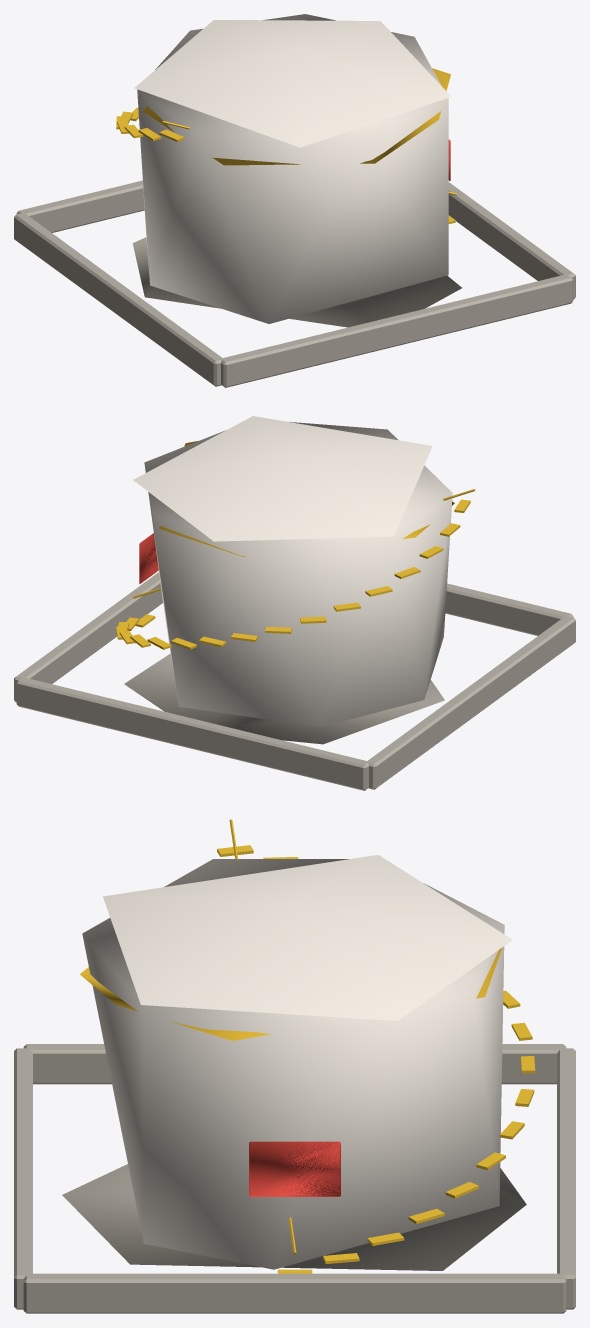
The model's file is fuel_tank.glb.
The picture shows the model from 3 angles, top to bottom: view 1: azimuth 30°, elevation 25°; view 2: azimuth 150°, elevation 25°; view 3: azimuth 270°, elevation 25°; orthographic projection. The views are drawn at different scales.
Visible parts, largest first — view 1: fuel_tank; view 2: fuel_tank; view 3: fuel_tank.
Part boxes in pixels (x1=…): fuel_tank: x1=14, y1=14, x2=575, y2=387; fuel_tank: x1=14, y1=416, x2=575, y2=790; fuel_tank: x1=14, y1=819, x2=575, y2=1313.
Bounding box in the file's own units: 14.7 × 8.5 × 14.7.
1 material, 1 textured.
